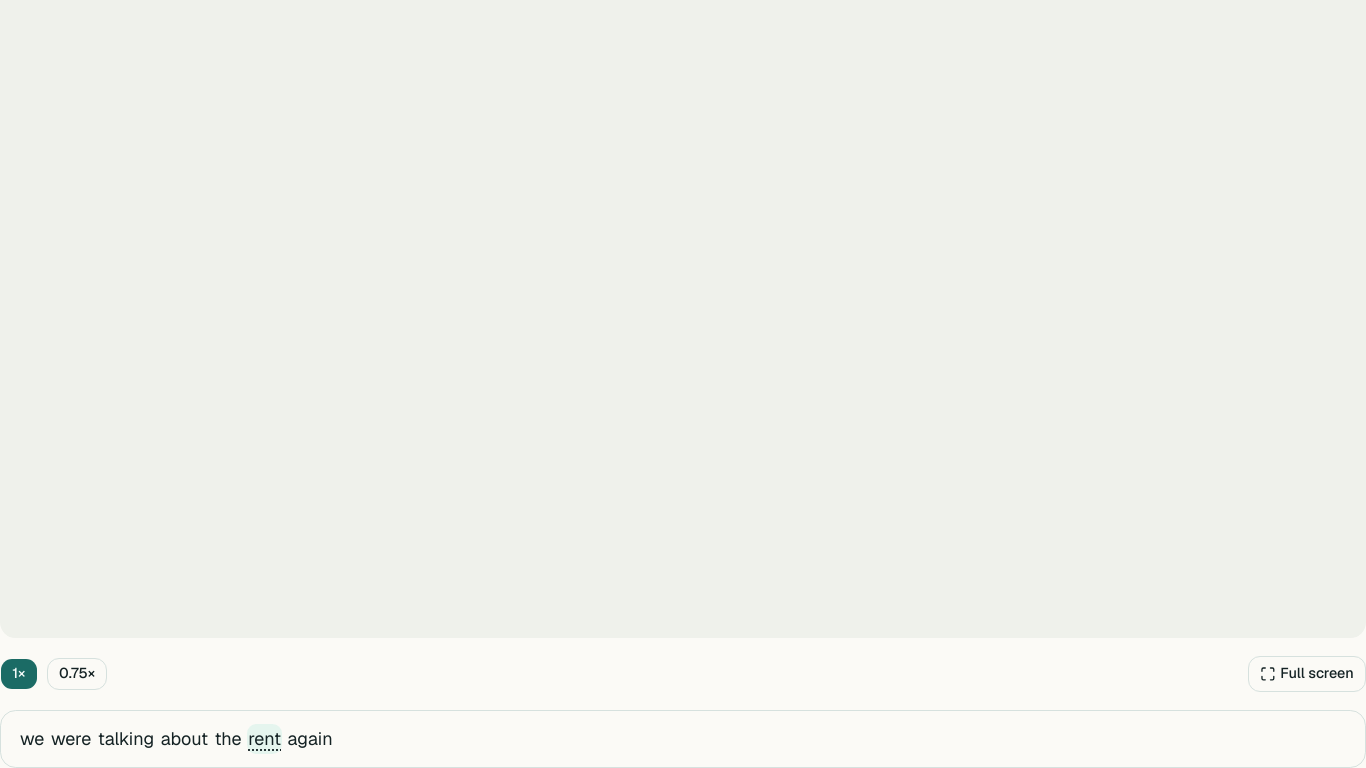
it: the word sheet › confirms a save
This screenshot has width=1366, height=768.
(page scrolled)
Click the button "rent": click(265, 739) [247, 724, 282, 754]
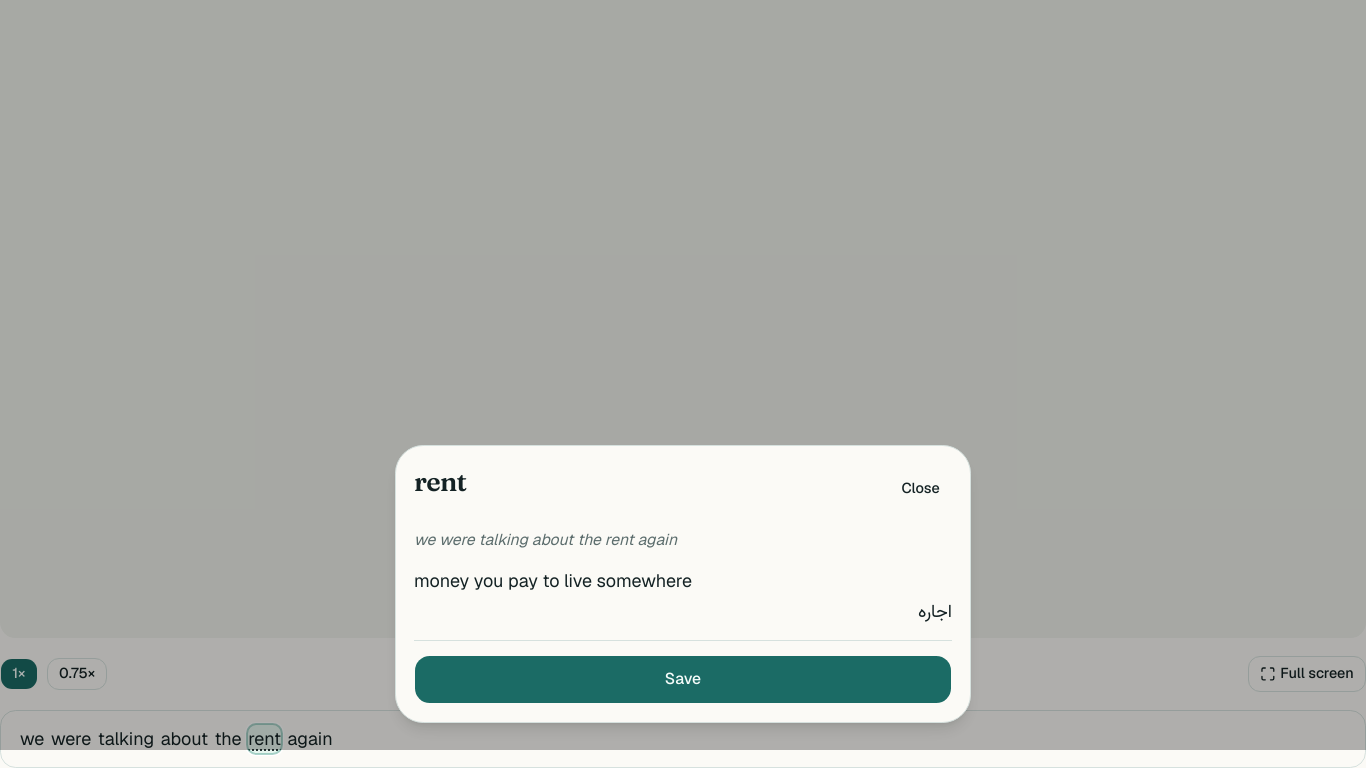
Expected: the dialog with test id "word-sheet" is shown, [395, 445, 971, 723]
Click the button with test id "word-sheet-save": click(683, 679) [414, 654, 952, 704]
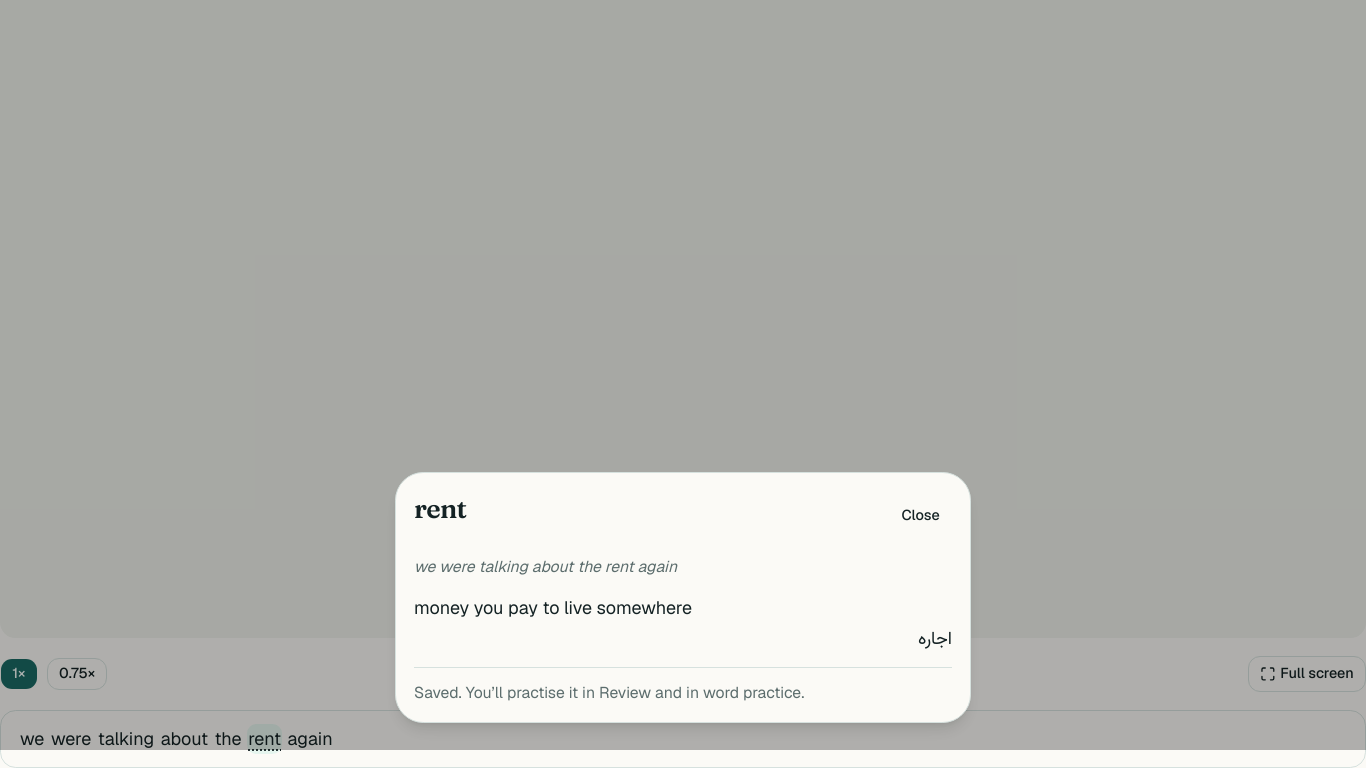
Expected: the text with test id "save-word-result" reads "Saved. You’ll practise it in Review and in word practice.", [414, 682, 804, 702]
